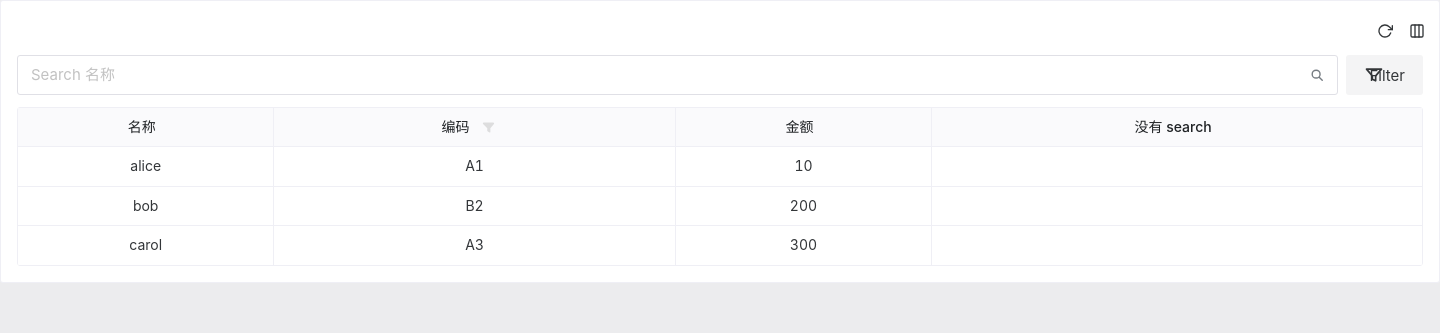
it: 窄档(根元素宽 < 600):输入框 + 筛选 › 窄档回车 = 搜索;窄档 chips 有 1 条就画
In the field with placeholder "Search 名称": (660, 75) [31,55,1290,95], type "ali"
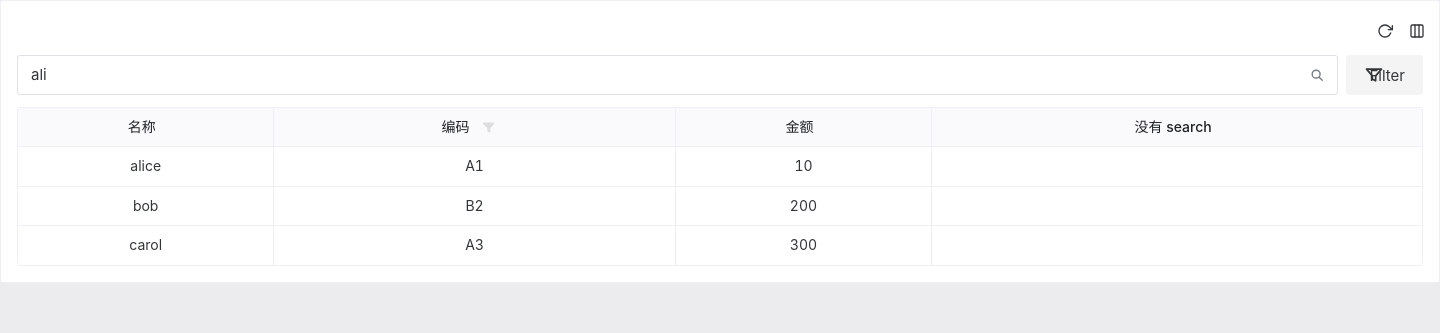
Press Enter in the field, box [31,55,1290,95]
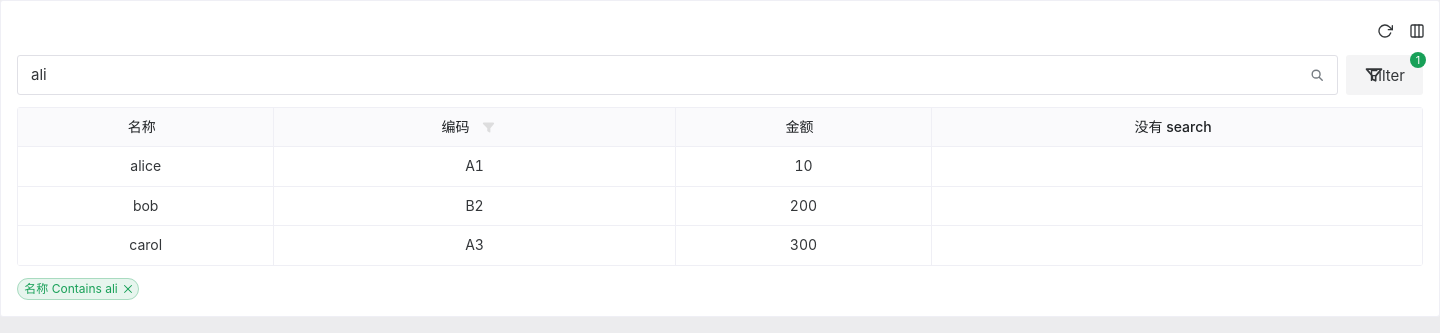
Expected: the text with class "smart-table-cond__badge" reads "1", [1416,53,1420,67]
